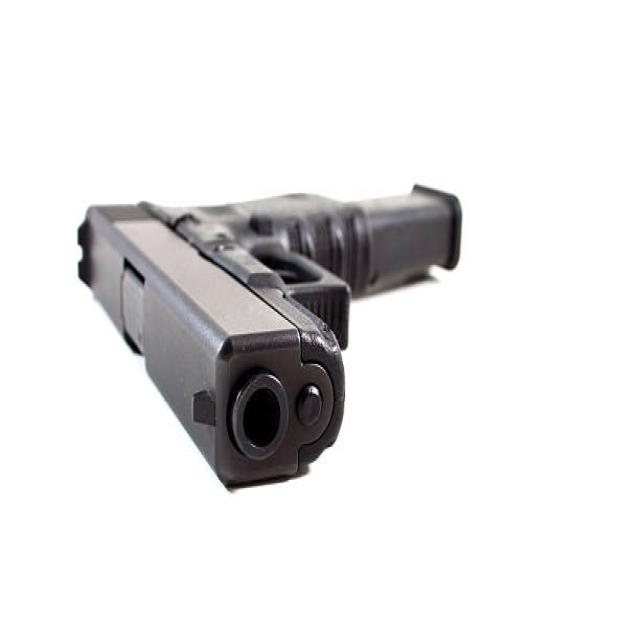pistol: (68, 180, 468, 498)
